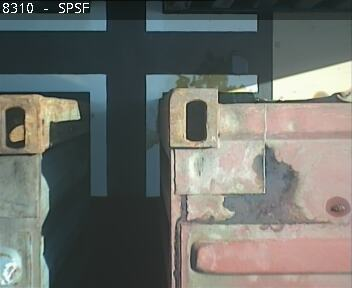groundmarker_1: (1, 73, 256, 196)
